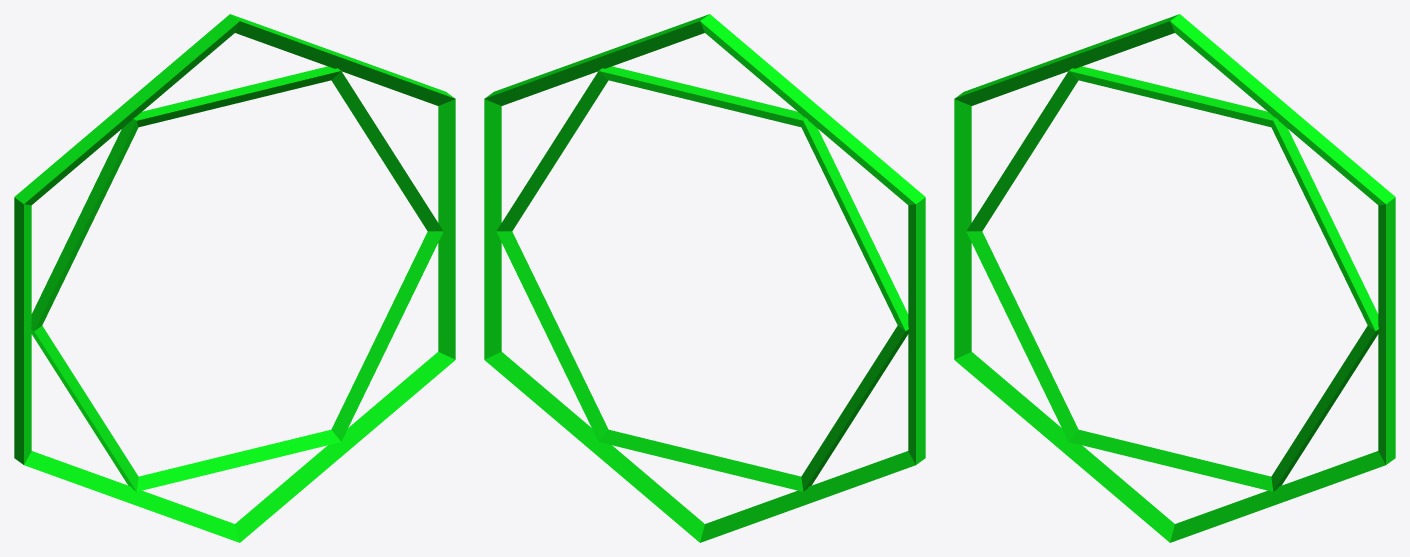
The model's file is LIH0210007.fbx.
3 views of the same model, side by side, from view 1: azimuth 30°, elevation 25°; view 2: azimuth 150°, elevation 25°; view 3: azimuth 330°, elevation 25° (orthographic).
Parts seen in each view (by area): view 1: smLIH0210007; view 2: smLIH0210007; view 3: smLIH0210007.
Boxes of the visible parts, x1,y1,x2,y2 form: smLIH0210007: [14, 14, 455, 542]; smLIH0210007: [484, 14, 925, 542]; smLIH0210007: [954, 14, 1395, 542].
Bounding box in the file's own units: 223 × 258 × 8.76.
